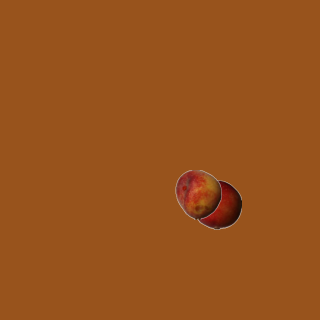Apple Braeburn: (191, 179, 241, 229)
Peach: (173, 169, 223, 219)
